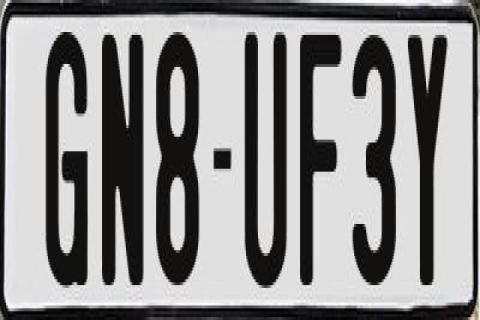0: (350, 29, 398, 288), (154, 27, 198, 280)
F: (300, 29, 342, 294)
G: (46, 32, 88, 296)
N: (101, 26, 146, 288)
U: (242, 26, 284, 288)
Y: (406, 32, 452, 288)
